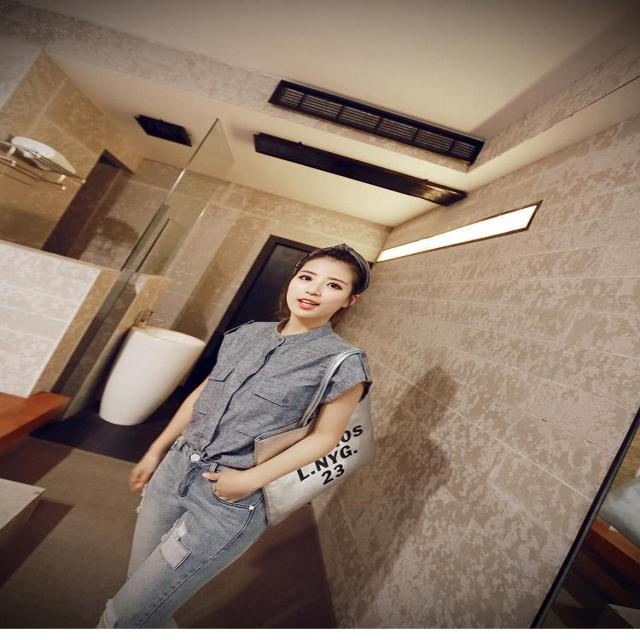short-sleeve-top: (201, 312, 374, 474)
